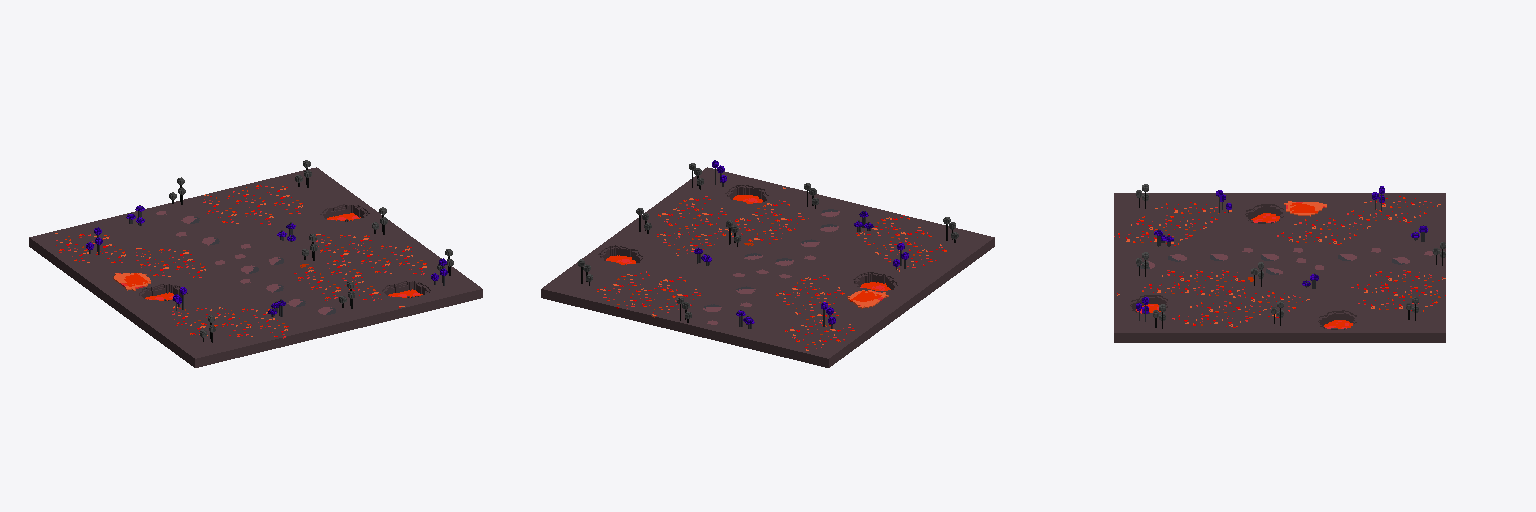
The picture shows the model from 3 angles: view 1: azimuth 30°, elevation 25°; view 2: azimuth 150°, elevation 25°; view 3: azimuth 270°, elevation 25°; orthographic projection.
Visible parts, largest first — view 1: Model; view 2: Model; view 3: Model.
Part boxes in pixels (left/top/right/bottom): Model: left=29, top=160, right=482, bottom=367; Model: left=541, top=160, right=994, bottom=367; Model: left=1114, top=184, right=1445, bottom=342.
Bounding box in the file's own units: 32 × 3.5 × 32.
1 materials, 1 textured.